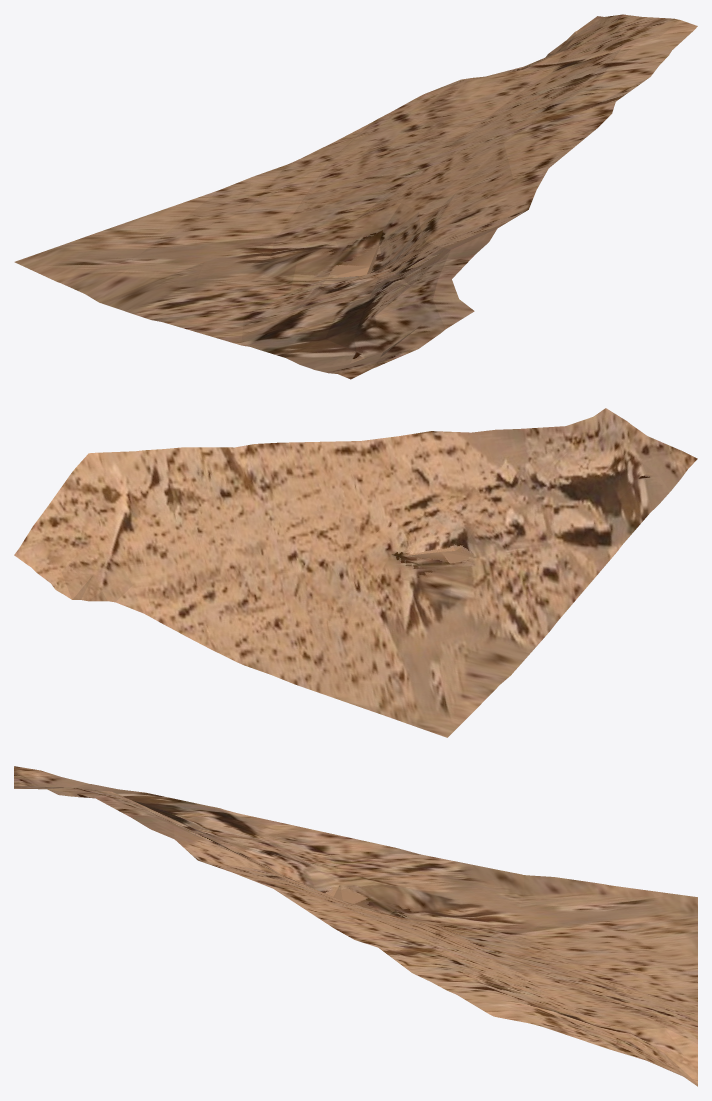
3 views of the same model, one above another, from view 1: azimuth 30°, elevation 25°; view 2: azimuth 150°, elevation 25°; view 3: azimuth 270°, elevation 25° (orthographic). The views are drawn at different scales.
Bounding box in the file's own units: 1.04 × 0.2859 × 1.04.
2 materials, 2 textured.
